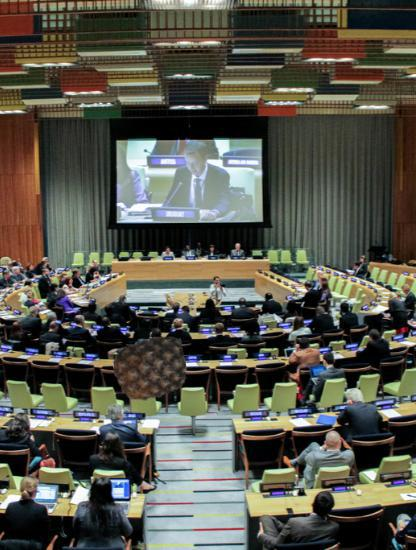Pineapple: (114, 332, 187, 405)
